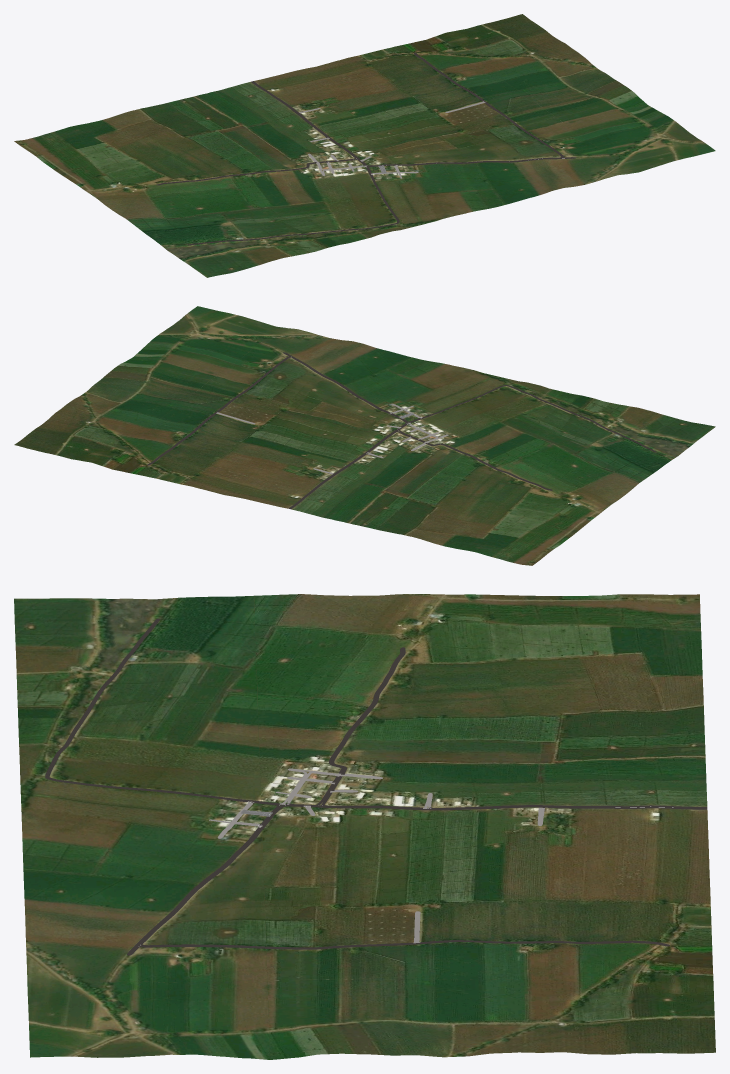
Rendered from ground.fbx.
3 views of the same model, one above another, from view 1: azimuth 30°, elevation 25°; view 2: azimuth 150°, elevation 25°; view 3: azimuth 270°, elevation 25° (orthographic). The views are drawn at different scales.
Visible parts, largest first — view 1: Mesh 6, Mesh 8, Mesh 9, Mesh 7, Mesh 10, Mesh 11, Mesh 3, Mesh 4; view 2: Mesh 6, Mesh 8, Mesh 7, Mesh 9, Mesh 10, Mesh 11, Mesh 3, Mesh 4; view 3: Mesh 6, Mesh 8, Mesh 7, Mesh 9, Mesh 10, Mesh 11, Mesh 3, Mesh 4.
Part boxes in pixels (box(x1,y1,x2,y2)): Mesh 6: box(14, 88, 350, 229); Mesh 8: box(226, 35, 564, 176); Mesh 9: box(351, 124, 631, 225); Mesh 7: box(140, 176, 418, 277); Mesh 10: box(439, 14, 647, 123); Mesh 11: box(565, 105, 715, 173); Mesh 3: box(156, 52, 575, 245); Mesh 4: box(299, 101, 485, 178); Mesh 6: box(317, 424, 650, 565); Mesh 8: box(99, 374, 435, 515); Mesh 7: box(436, 377, 715, 474); Mesh 9: box(219, 327, 499, 424); Mesh 10: box(14, 357, 217, 464); Mesh 11: box(134, 306, 282, 374); Mesh 3: box(147, 352, 656, 509); Mesh 4: box(216, 403, 448, 474); Mesh 6: box(254, 594, 706, 787); Mesh 8: box(260, 784, 713, 980); Mesh 7: box(14, 596, 260, 790); Mesh 9: box(20, 786, 267, 984); Mesh 10: box(267, 977, 715, 1059); Mesh 11: box(27, 980, 269, 1059); Mesh 3: box(45, 618, 707, 955); Mesh 4: box(209, 768, 544, 943).
Size of the model in its own units: 1368 by 881 by 15.
11 materials, 8 textured.
